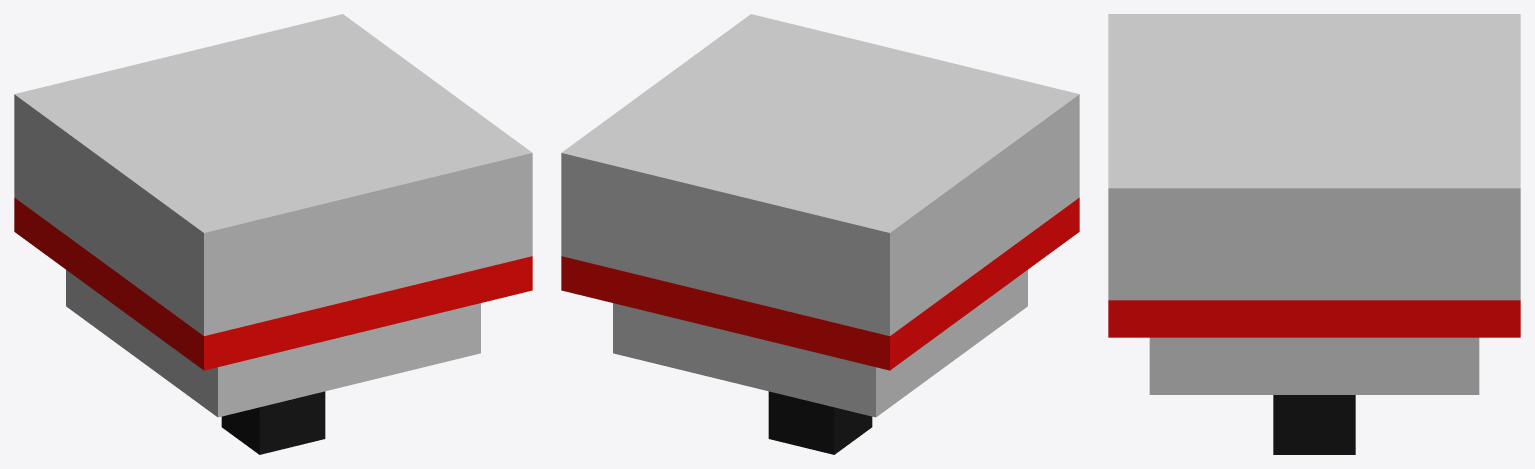
File: bobber.glb
The picture shows the model from 3 angles, left to right: view 1: azimuth 30°, elevation 25°; view 2: azimuth 150°, elevation 25°; view 3: azimuth 270°, elevation 25°; orthographic projection. The views are drawn at different scales.
Parts seen in each view (by area): view 1: Top, Bot, Mid, Point; view 2: Top, Bot, Mid, Point; view 3: Top, Bot, Mid, Point.
Part boxes in pixels (bbox=[...]): Top: bbox=[14, 14, 532, 335]; Bot: bbox=[66, 270, 480, 417]; Mid: bbox=[14, 197, 532, 370]; Point: bbox=[221, 391, 325, 454]; Top: bbox=[561, 14, 1079, 335]; Bot: bbox=[613, 270, 1027, 417]; Mid: bbox=[561, 197, 1079, 370]; Point: bbox=[768, 391, 872, 454]; Top: bbox=[1108, 14, 1520, 300]; Bot: bbox=[1149, 337, 1479, 394]; Mid: bbox=[1108, 300, 1520, 337]; Point: bbox=[1273, 395, 1355, 454].
Bounding box in the file's own units: 0.2 × 0.18 × 0.2.
